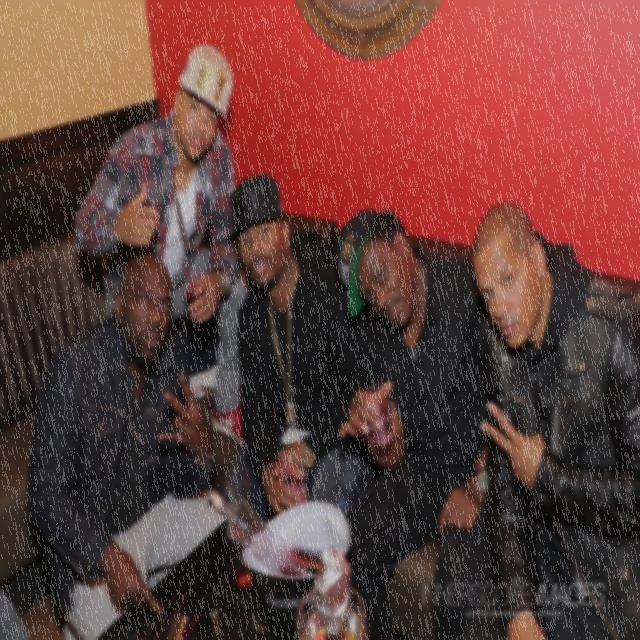pessoa: (25, 250, 230, 640), (468, 195, 640, 639), (73, 42, 249, 450), (333, 206, 493, 639), (223, 172, 376, 524)
